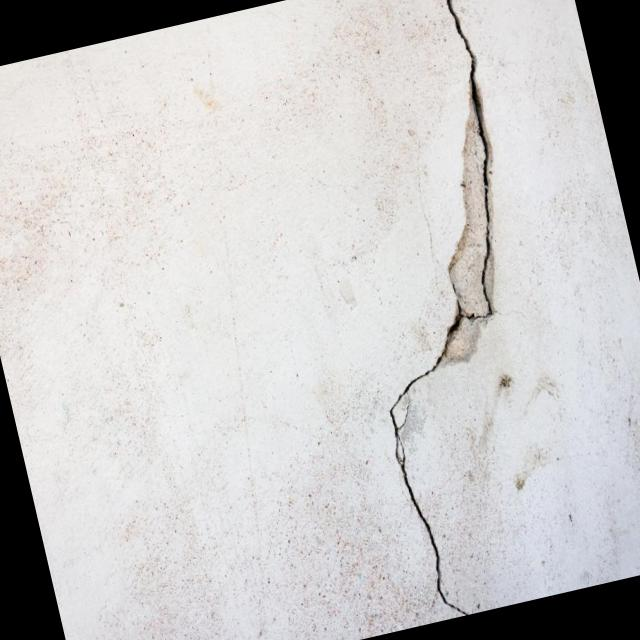crack: (386, 0, 498, 613)
